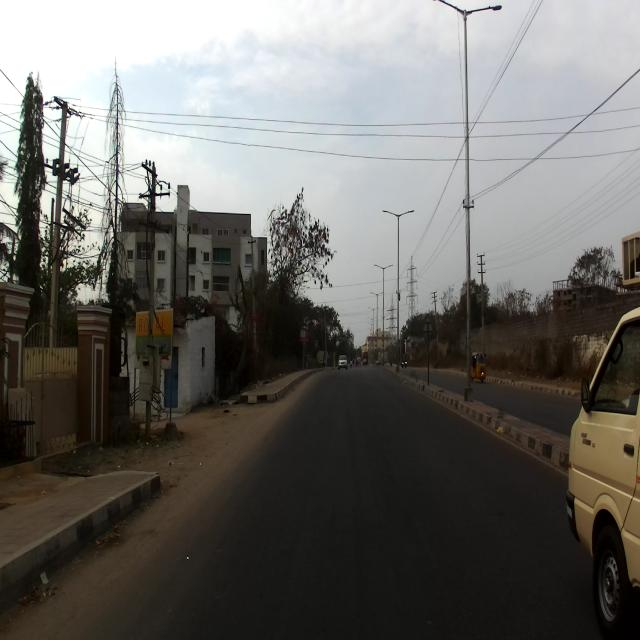electric pole ahead at: (134, 155, 176, 440)
